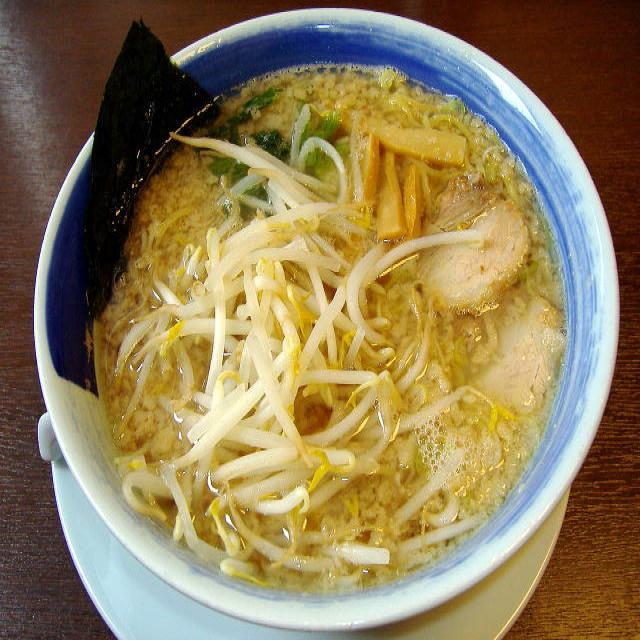面条主食: (26, 0, 624, 640)
